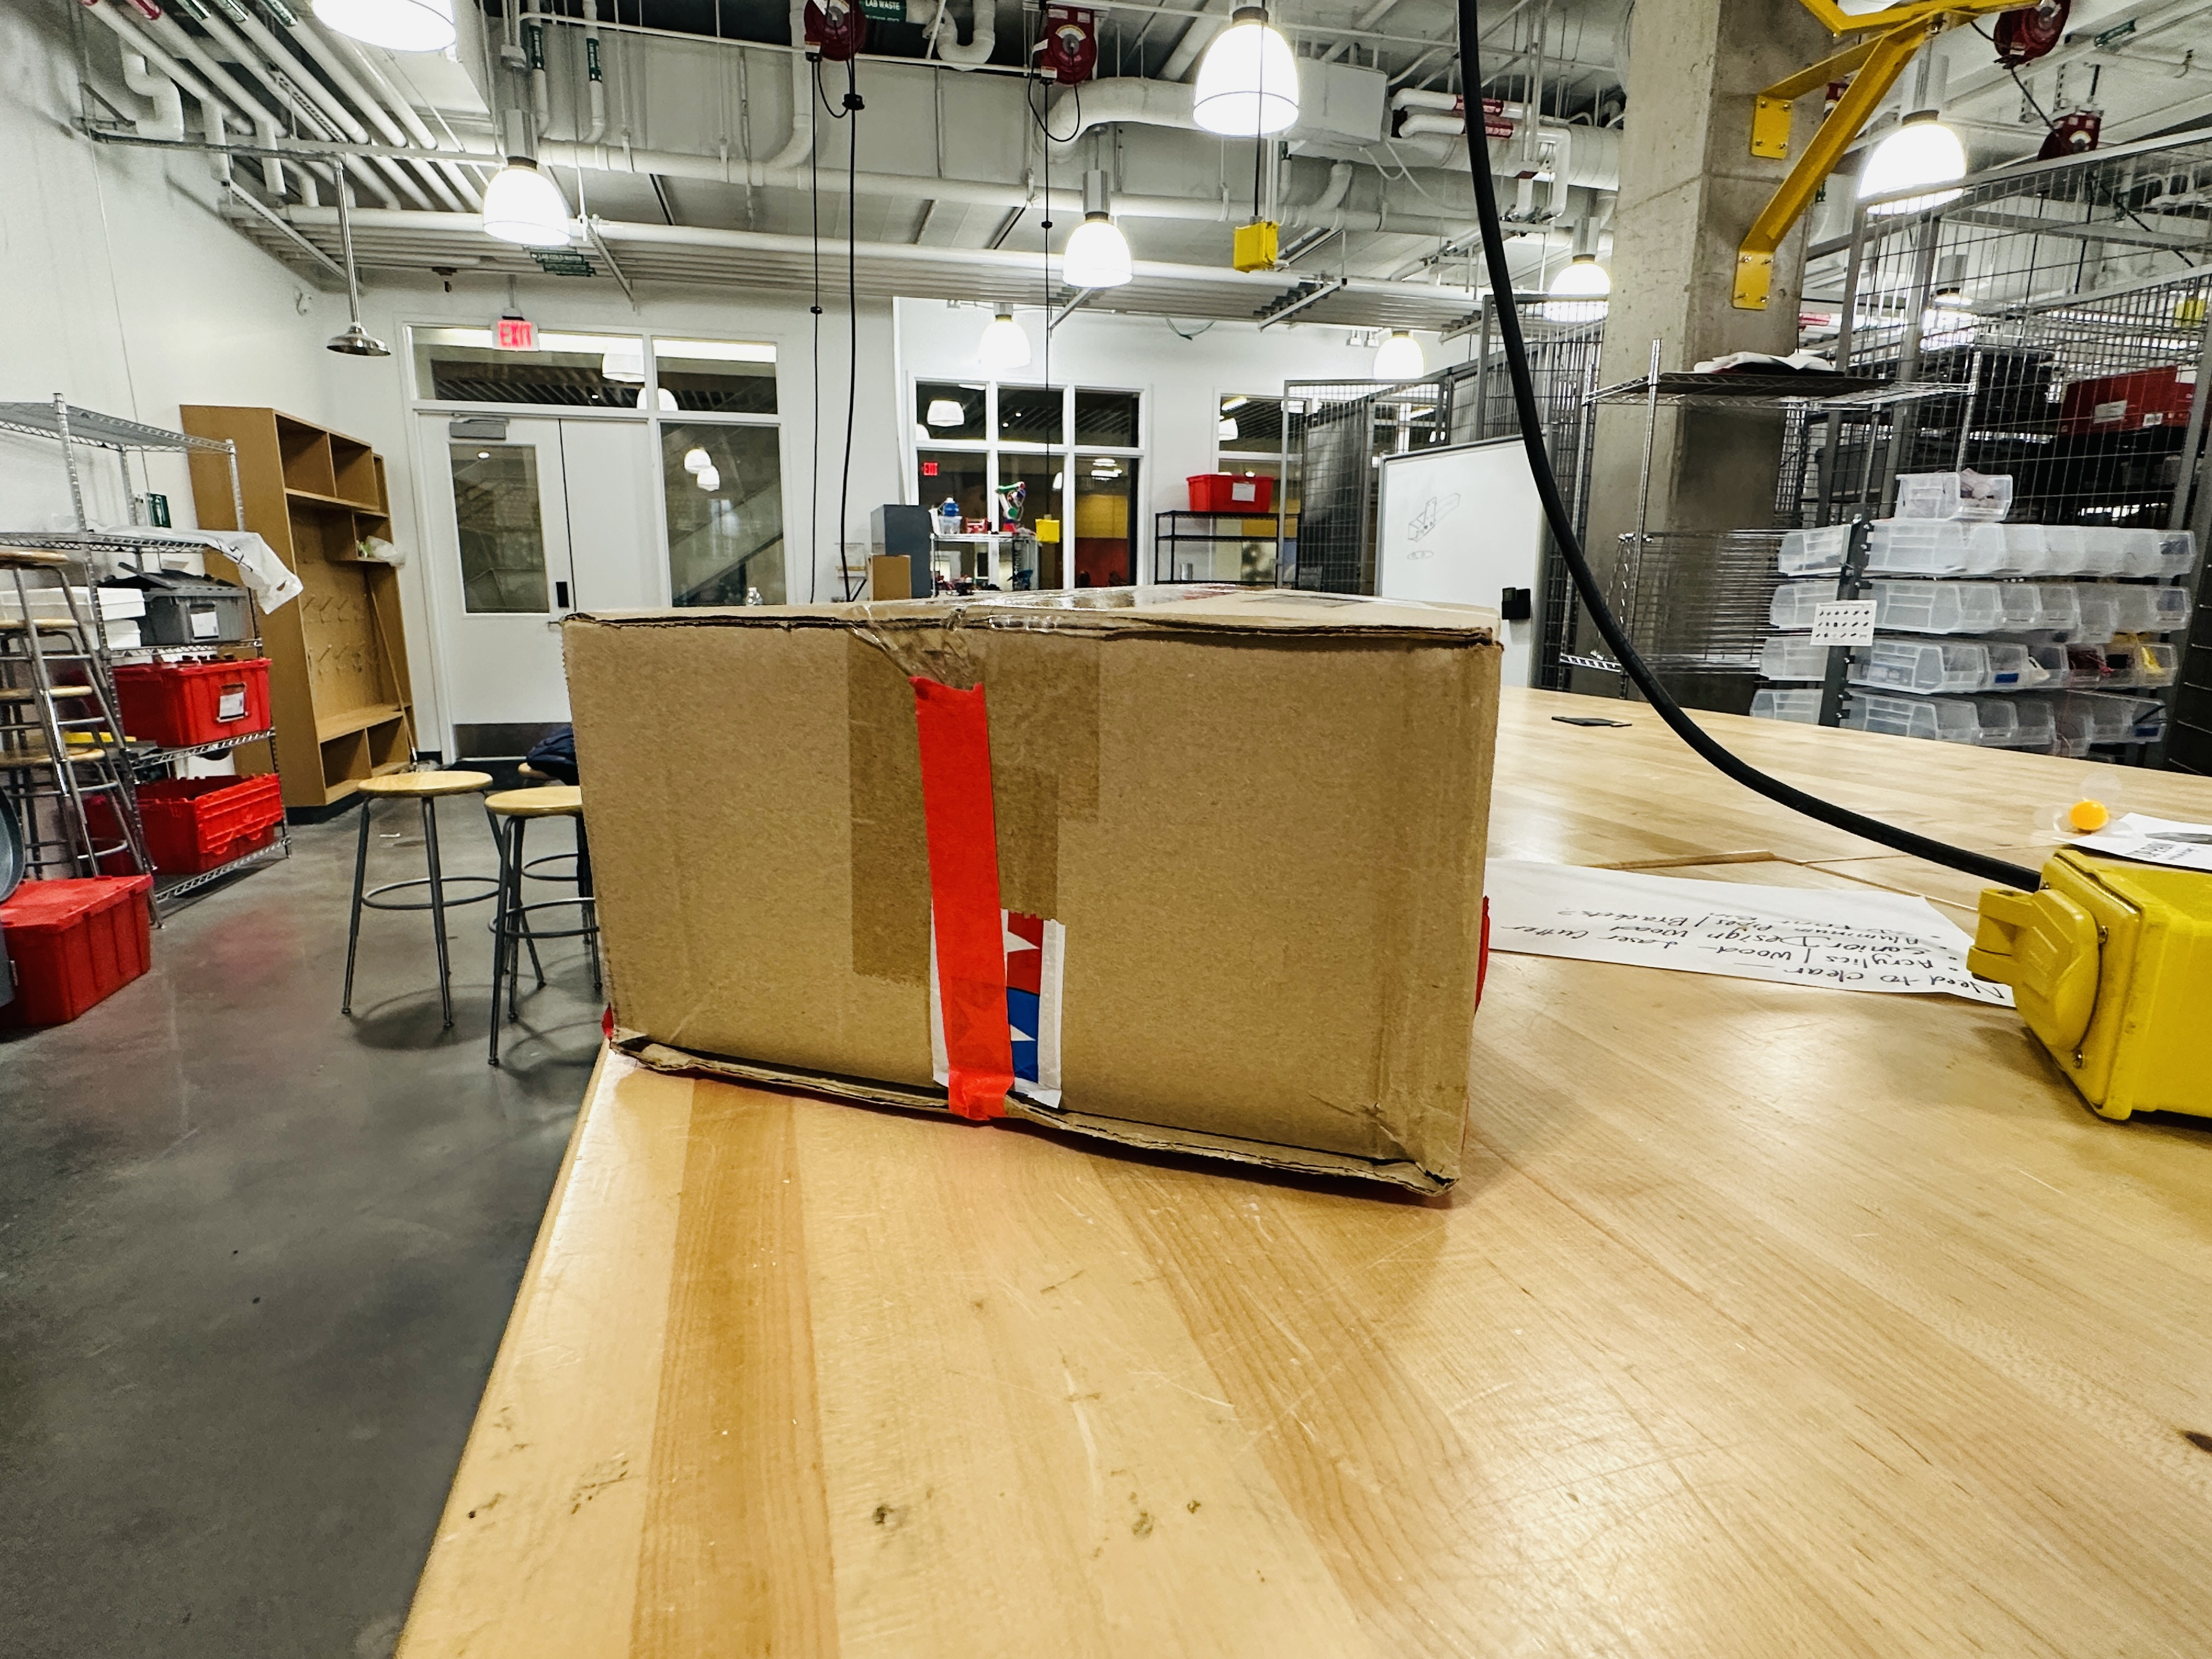Box_Obstacle: (544, 569, 1523, 1227)
